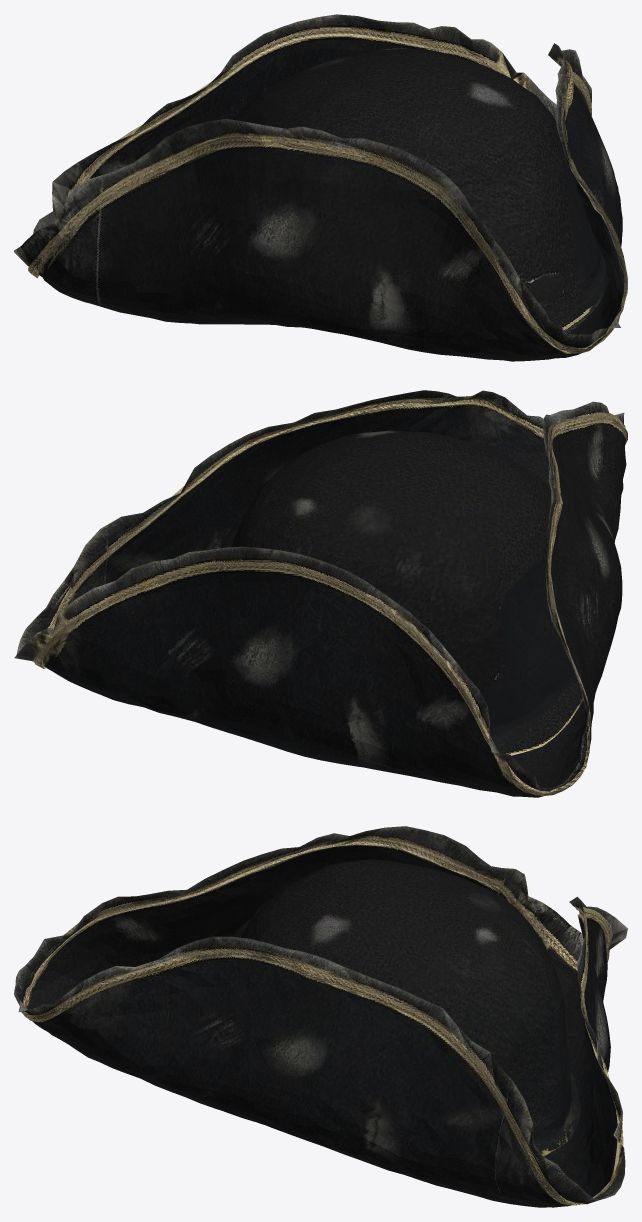
Rendered from ewm_tricorn.glb.
3 views of the same model, one above another, from view 1: azimuth 30°, elevation 25°; view 2: azimuth 150°, elevation 25°; view 3: azimuth 270°, elevation 25° (orthographic). The views are drawn at different scales.
Visible parts, largest first — view 1: ewm_tricorn; view 2: ewm_tricorn; view 3: ewm_tricorn.
Part boxes in pixels (x1,y1,x2,y2): ewm_tricorn: (14, 14, 627, 361); ewm_tricorn: (14, 390, 627, 797); ewm_tricorn: (14, 826, 627, 1207).
Bounding box in the file's own units: 0.3459 × 0.138 × 0.3432.
1 material, 1 textured.
